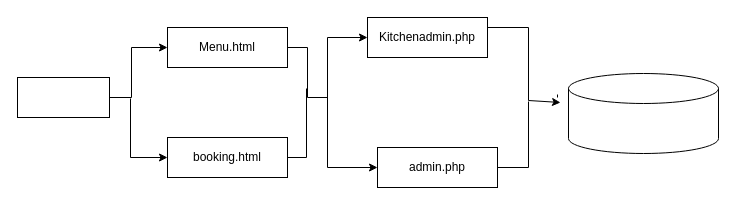
This 736x205 diagram has some shape labels left out. Each missing label, with the centre of its shape:
"Index.html" goes at (x=63, y=97).
"Mysql Database" goes at (x=643, y=113).
